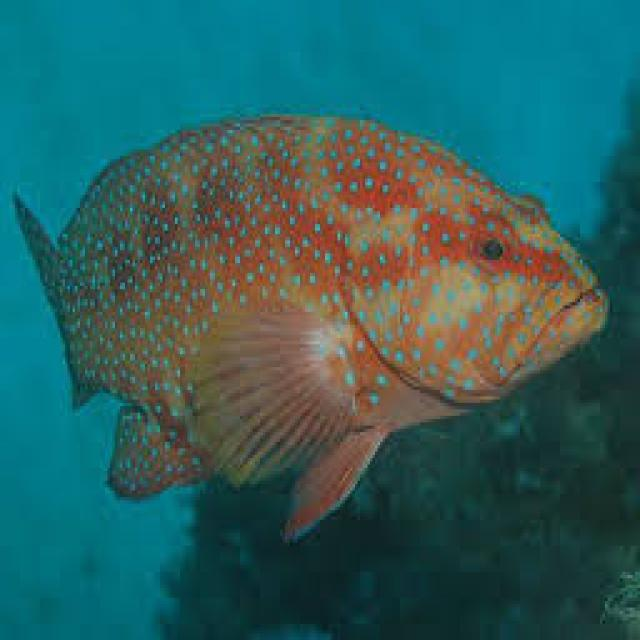Plectropomus-leopardus: (13, 69, 618, 554)
